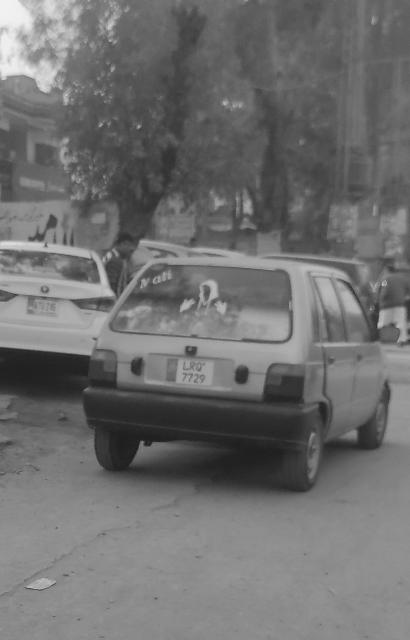Number: (179, 359, 208, 386)
